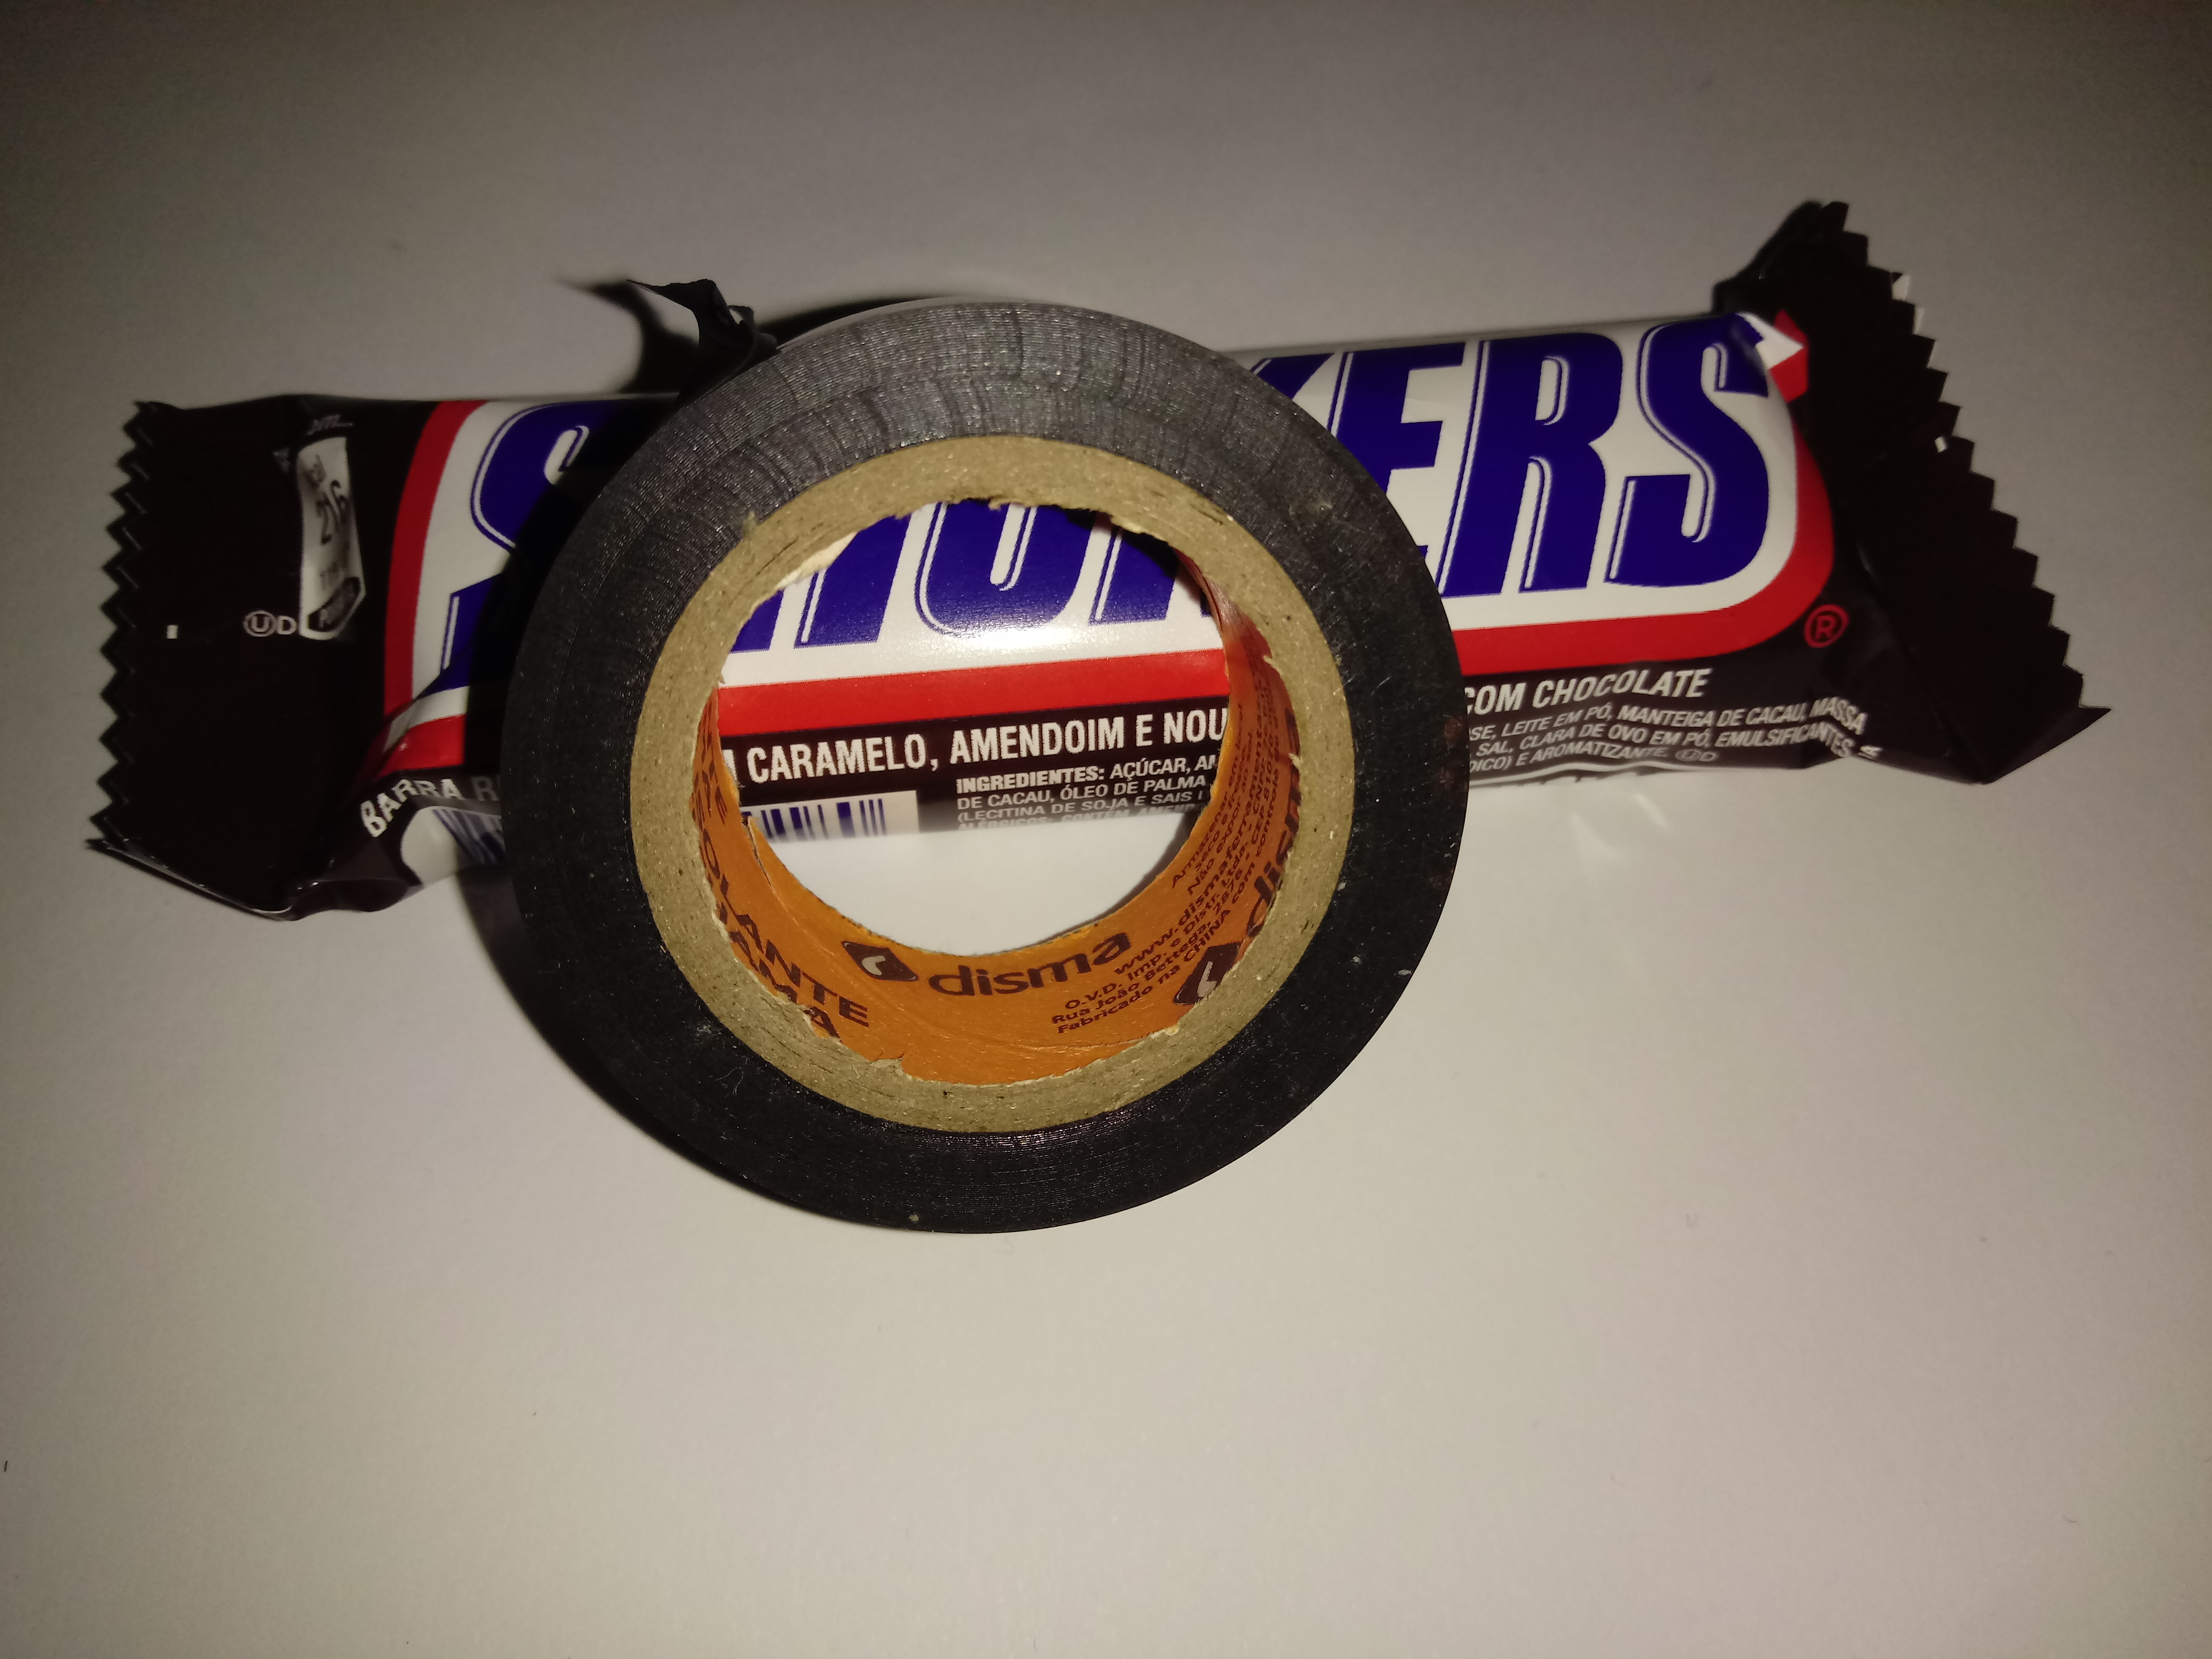snickers: (70, 186, 2155, 934)
